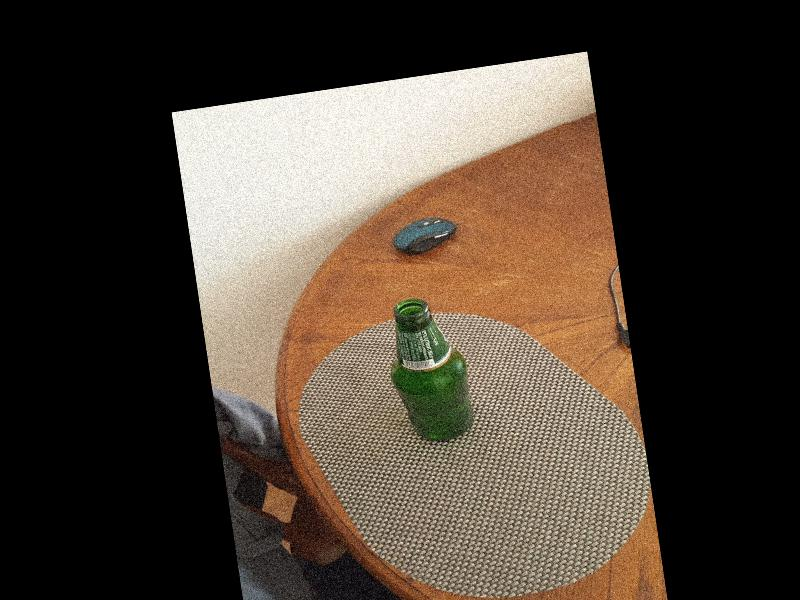Beer: (377, 291, 480, 447)
